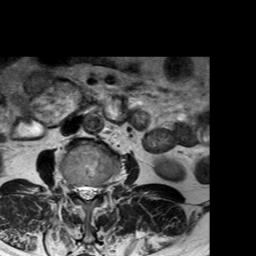CCS_stenosis: (82, 176, 90, 210)
LFS_normal: (98, 176, 105, 201)
LLS_normal: (90, 176, 98, 205)
RFS_stenosis: (67, 173, 75, 203)
RLS_normal: (75, 175, 82, 204)
